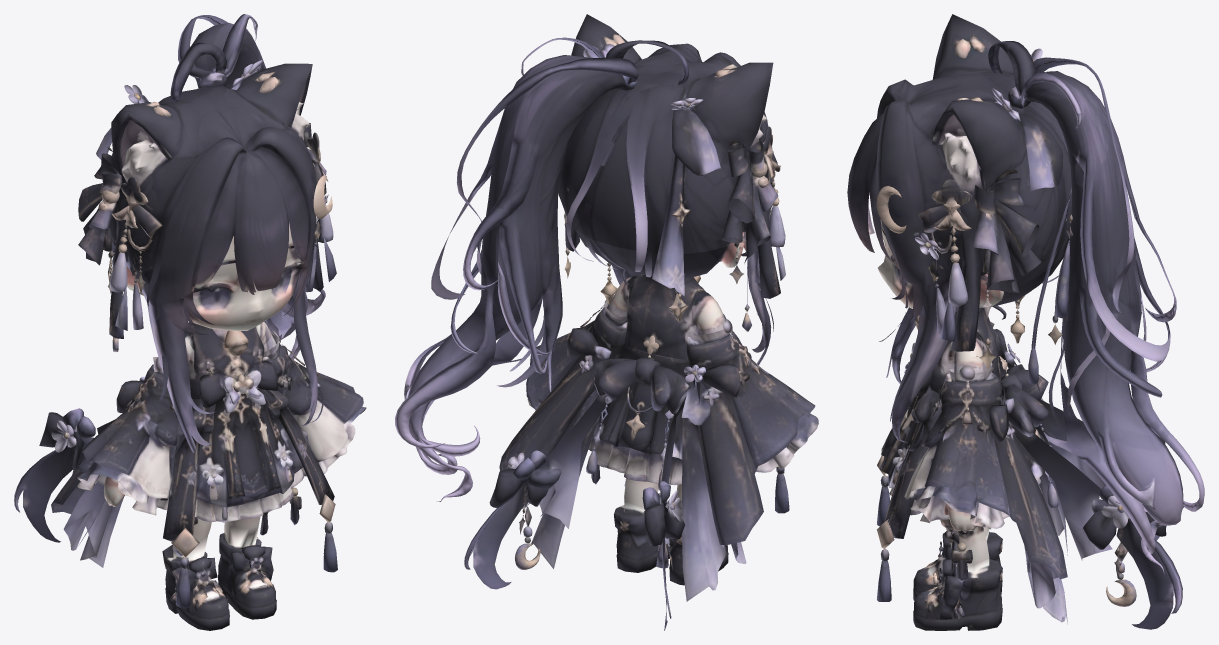
The model's file is source.glb.
The picture shows the model from 3 angles, left to right: view 1: azimuth 30°, elevation 25°; view 2: azimuth 150°, elevation 25°; view 3: azimuth 270°, elevation 25°; orthographic projection. The views are drawn at different scales.
Visible parts, largest first — view 1: tripo_part_0, tripo_part_2, tripo_part_8, tripo_part_5, tripo_part_4, tripo_part_20, tripo_part_1, tripo_part_9, tripo_part_6, tripo_part_30, tripo_part_3, tripo_part_7 (+14 smaller); view 2: tripo_part_0, tripo_part_1, tripo_part_9, tripo_part_5, tripo_part_2, tripo_part_4, tripo_part_7, tripo_part_8, tripo_part_20, tripo_part_32, tripo_part_13, tripo_part_6 (+11 smaller); view 3: tripo_part_0, tripo_part_1, tripo_part_4, tripo_part_2, tripo_part_6, tripo_part_32, tripo_part_35, tripo_part_20, tripo_part_25, tripo_part_8, tripo_part_19, tripo_part_87 (+23 smaller).
Boxes of the visible parts, x1,y1,x2,y2 form: tripo_part_0: (109, 63, 323, 452); tripo_part_2: (157, 360, 334, 541); tripo_part_8: (77, 222, 309, 583); tripo_part_5: (76, 250, 194, 500); tripo_part_4: (257, 322, 363, 462); tripo_part_20: (72, 14, 323, 592); tripo_part_1: (178, 15, 325, 359); tripo_part_9: (51, 469, 123, 567); tripo_part_6: (218, 517, 276, 619); tripo_part_30: (14, 205, 137, 542); tripo_part_3: (162, 518, 229, 630); tripo_part_7: (184, 322, 264, 399); tripo_part_0: (558, 14, 780, 365); tripo_part_1: (395, 55, 638, 501); tripo_part_9: (682, 388, 763, 601); tripo_part_5: (650, 233, 815, 469); tripo_part_2: (522, 314, 726, 568); tripo_part_4: (499, 275, 639, 471); tripo_part_7: (621, 274, 705, 359); tripo_part_8: (564, 211, 818, 472); tripo_part_20: (522, 37, 778, 568); tripo_part_32: (540, 37, 789, 547); tripo_part_13: (721, 140, 778, 257); tripo_part_6: (519, 478, 673, 572); tripo_part_0: (847, 14, 1071, 442); tripo_part_1: (986, 57, 1204, 573); tripo_part_4: (904, 332, 1067, 579); tripo_part_2: (879, 342, 1121, 624); tripo_part_6: (913, 526, 1121, 630); tripo_part_32: (877, 60, 1112, 585); tripo_part_35: (927, 518, 1182, 629); tripo_part_20: (877, 72, 1081, 612); tripo_part_25: (973, 169, 1039, 256); tripo_part_8: (878, 219, 1063, 618); tripo_part_19: (910, 485, 1004, 529); tripo_part_87: (972, 202, 1019, 294).
Size of the model in its own units: 0.6209 by 1 by 0.5701.
1 material, 1 textured.
